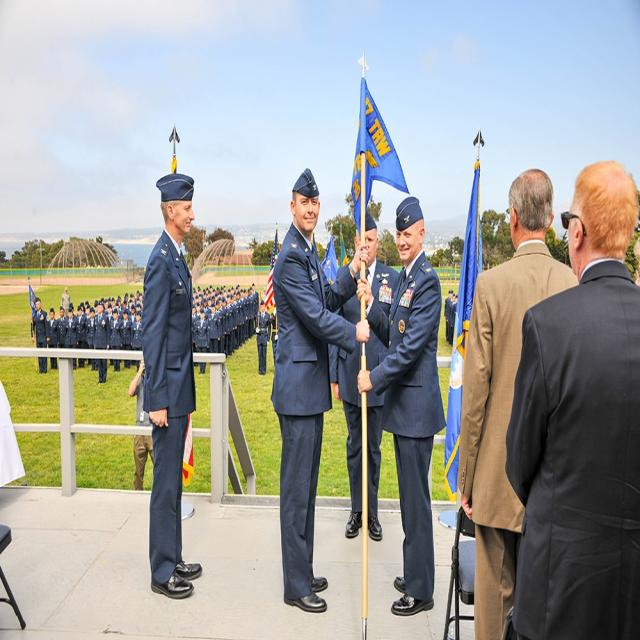body: (504, 156, 640, 639), (454, 164, 579, 640), (272, 166, 371, 615), (354, 196, 447, 617), (138, 172, 204, 602), (327, 207, 400, 541), (128, 359, 154, 492), (190, 281, 258, 314), (66, 288, 145, 316), (222, 314, 258, 366), (28, 296, 51, 374), (92, 297, 110, 384), (254, 298, 271, 376), (194, 307, 211, 375), (64, 306, 79, 372), (444, 288, 460, 348), (46, 306, 60, 372), (109, 307, 123, 372), (206, 303, 222, 354), (120, 309, 133, 370), (76, 306, 88, 369), (131, 310, 143, 372), (85, 306, 96, 367), (188, 314, 198, 373), (271, 303, 279, 368), (56, 305, 68, 348), (60, 286, 71, 316), (90, 356, 99, 372)
